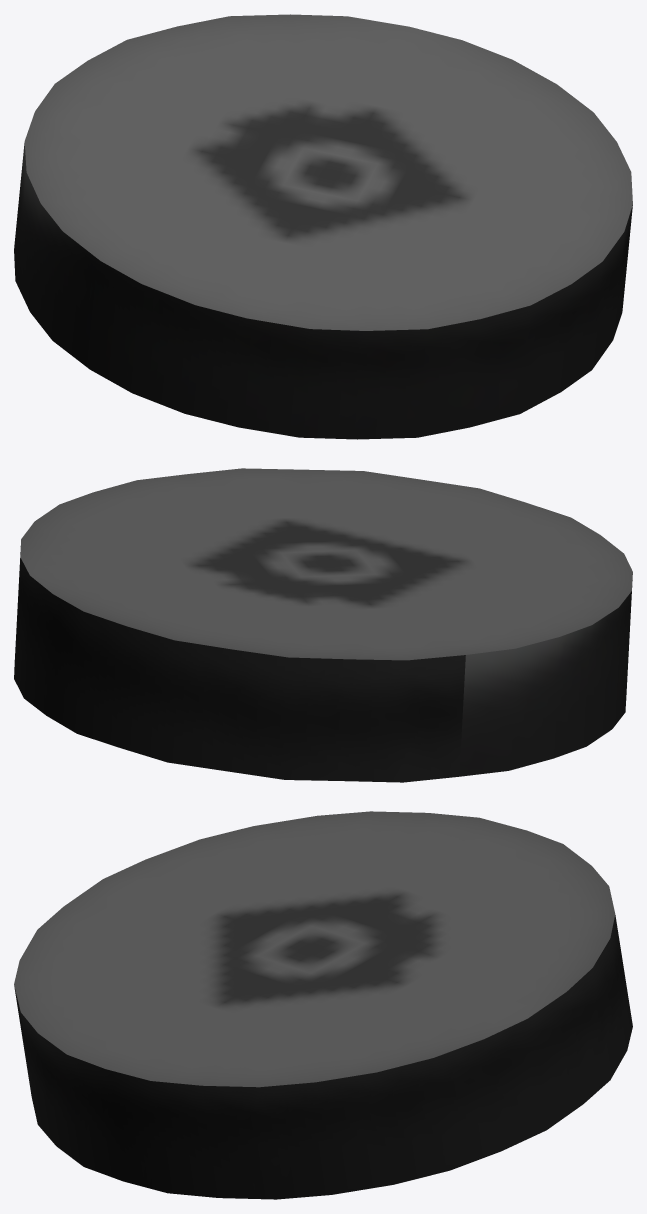
File: RMenu.obj
3 views of the same model, one above another, from view 1: azimuth 30°, elevation 25°; view 2: azimuth 150°, elevation 25°; view 3: azimuth 270°, elevation 25° (orthographic).
Visible parts, largest first — view 1: RMenu; view 2: RMenu; view 3: RMenu.
Boxes of the visible parts, bbox=[...] form: RMenu: bbox=[14, 14, 632, 439]; RMenu: bbox=[14, 468, 632, 782]; RMenu: bbox=[14, 811, 632, 1199].
Size of the model in its own units: 0.00822 by 0.00279 by 0.00834.
Materials: 1 (1 with a texture image).
